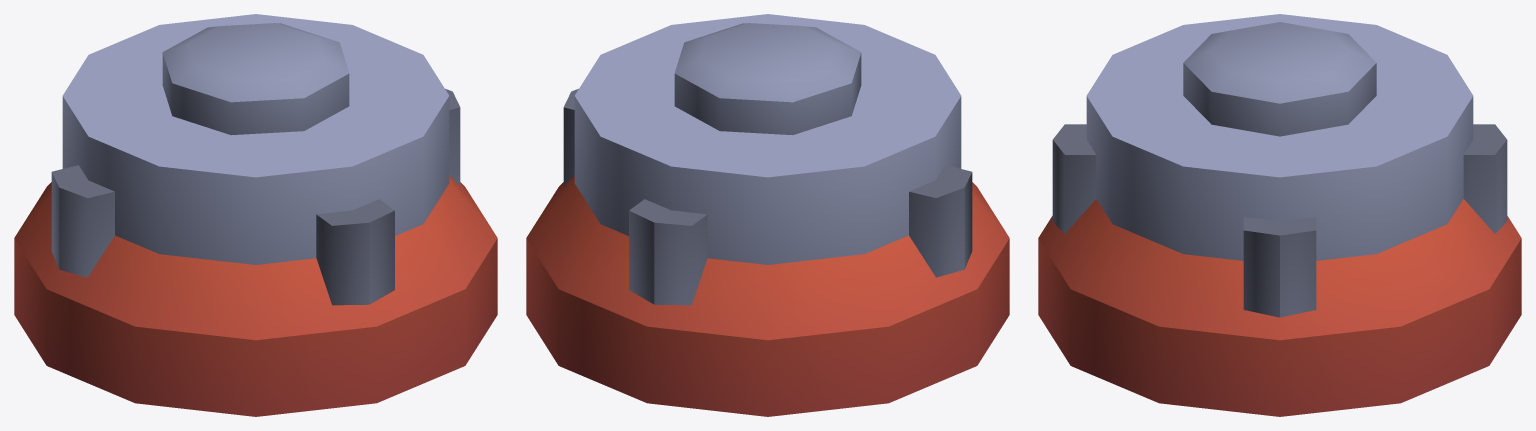
Rendered from tower-round-bottom-a.glb.
3 views of the same model, side by side, from view 1: azimuth 30°, elevation 25°; view 2: azimuth 150°, elevation 25°; view 3: azimuth 270°, elevation 25° (orthographic).
Visible parts, largest first — view 1: tower-round-bottom-a; view 2: tower-round-bottom-a; view 3: tower-round-bottom-a.
Boxes of the visible parts, box(x1,y1,x2,y2) form: tower-round-bottom-a: box(14, 14, 497, 416); tower-round-bottom-a: box(526, 14, 1009, 416); tower-round-bottom-a: box(1038, 14, 1521, 416).
Size of the model in its own units: 1 by 0.6001 by 1.
